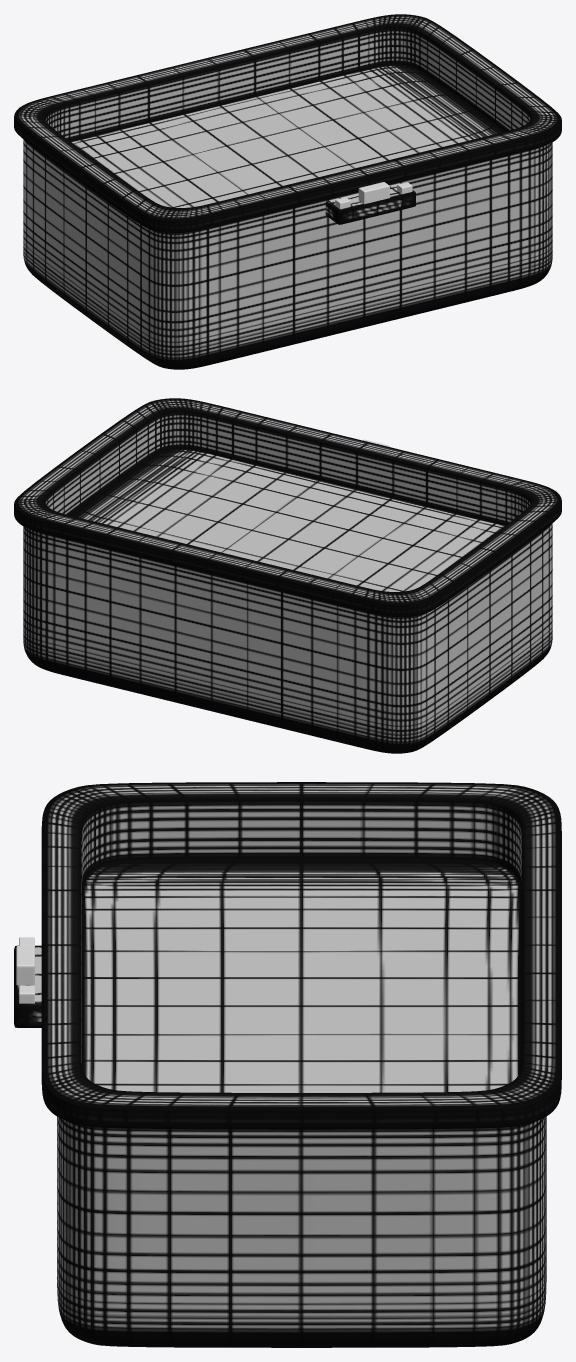
Rendered from Tacklebox_Base.glb.
The picture shows the model from 3 angles, top to bottom: view 1: azimuth 30°, elevation 25°; view 2: azimuth 150°, elevation 25°; view 3: azimuth 270°, elevation 25°; orthographic projection. The views are drawn at different scales.
Visible parts, largest first — view 1: Tacklebox_Base; view 2: Tacklebox_Base; view 3: Tacklebox_Base.
Part boxes in pixels (x1=…): Tacklebox_Base: x1=14, y1=14, x2=561, y2=369; Tacklebox_Base: x1=14, y1=398, x2=561, y2=753; Tacklebox_Base: x1=14, y1=782, x2=561, y2=1347.
Bounding box in the file's own units: 5.2 × 1.87 × 3.67.
Materials: 1 (1 with a texture image).
